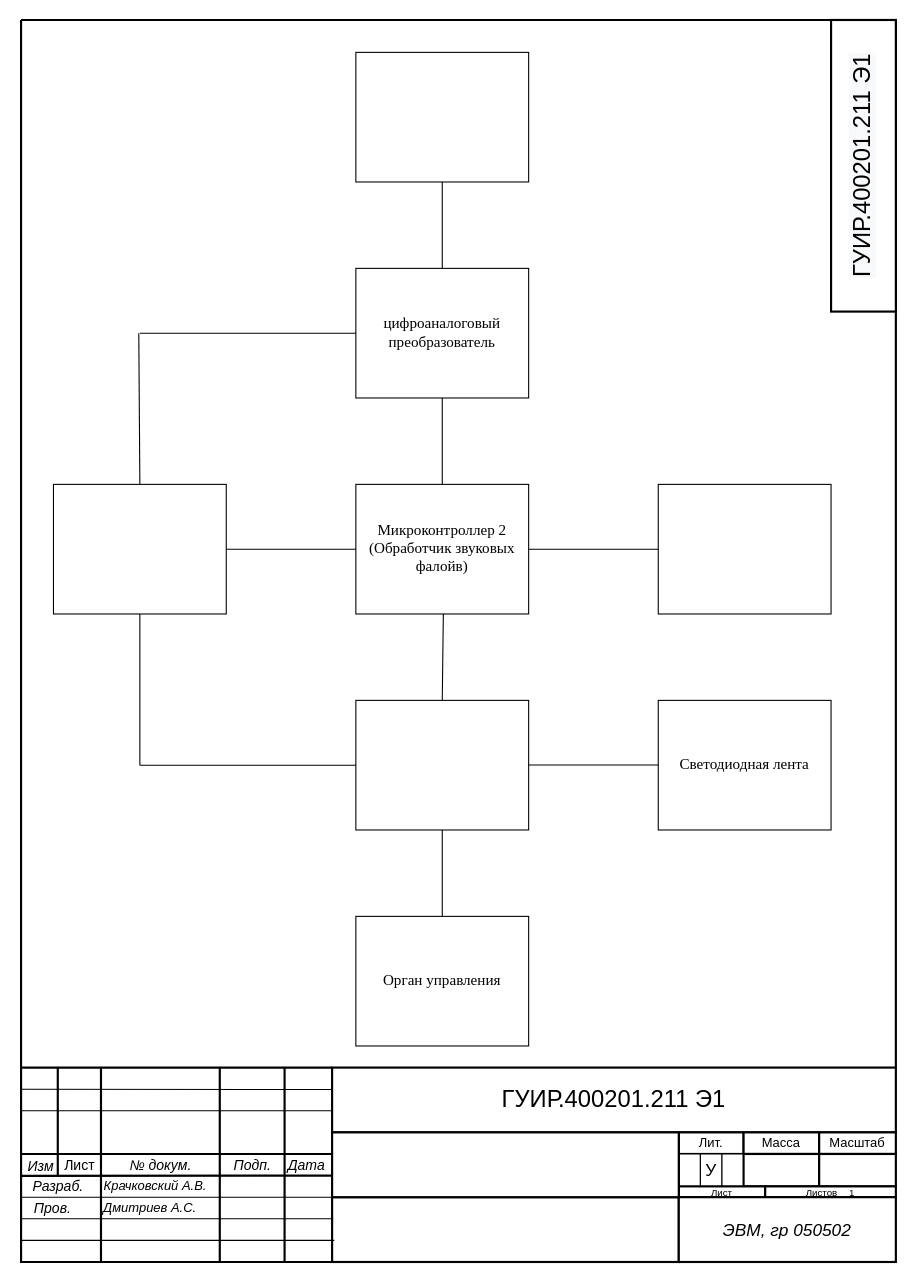
Some shapes in this 917 by 1282 pixel diagram are drawn without their labels. The shapes that lost their labels are listed below. From the top down, each one's centre as x and y in pixels, then its label:
At (x=442, y=116): "Аудио адаптер".
At (x=139, y=548): "Блок питания".
At (x=744, y=548): "Считыватель карт памяти".
At (x=442, y=764): "Микроконтроллер 1 (управление устройства)".
At (x=504, y=1164): "Музыкальный пад Структурная схема".
